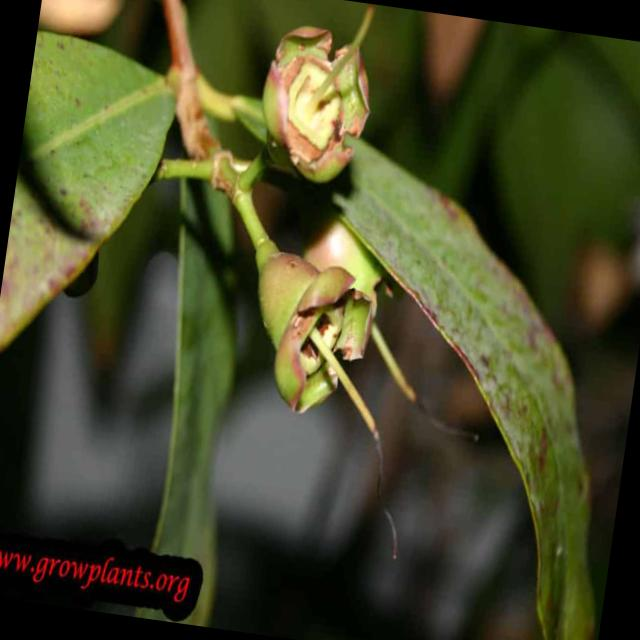Medicinal-Rose Apple: (0, 0, 640, 621)
